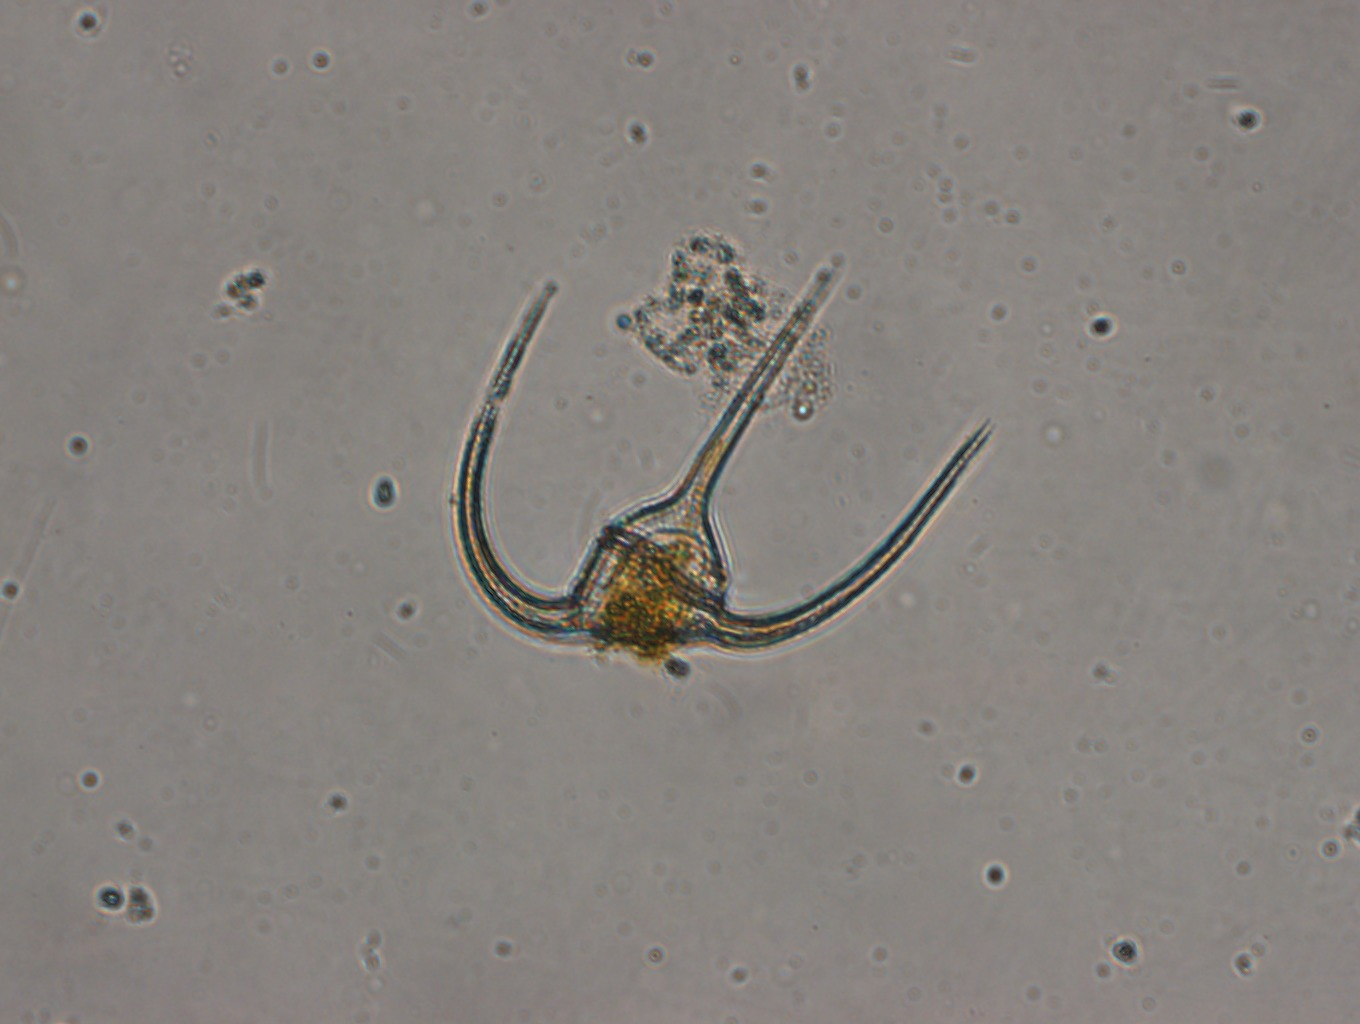ceratium trichoceros: (449, 247, 1007, 670)
